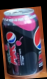pepsi: (2, 8, 44, 76)
